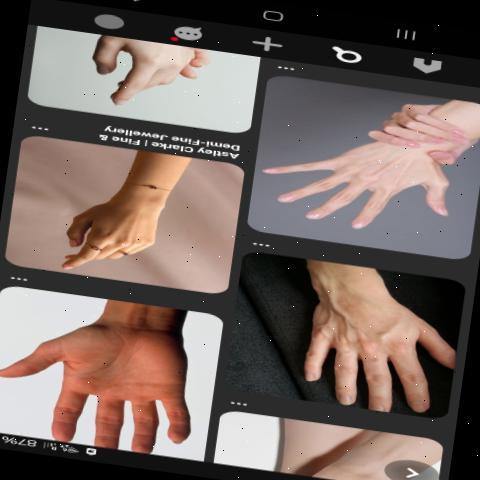Hands: (1, 298, 203, 461), (258, 98, 454, 246), (276, 278, 455, 419), (32, 164, 188, 284)
